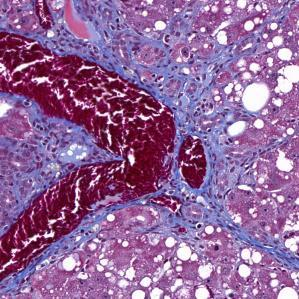fibrosis: (91, 13, 217, 86), (178, 111, 239, 215), (131, 199, 248, 245), (14, 131, 90, 191)
